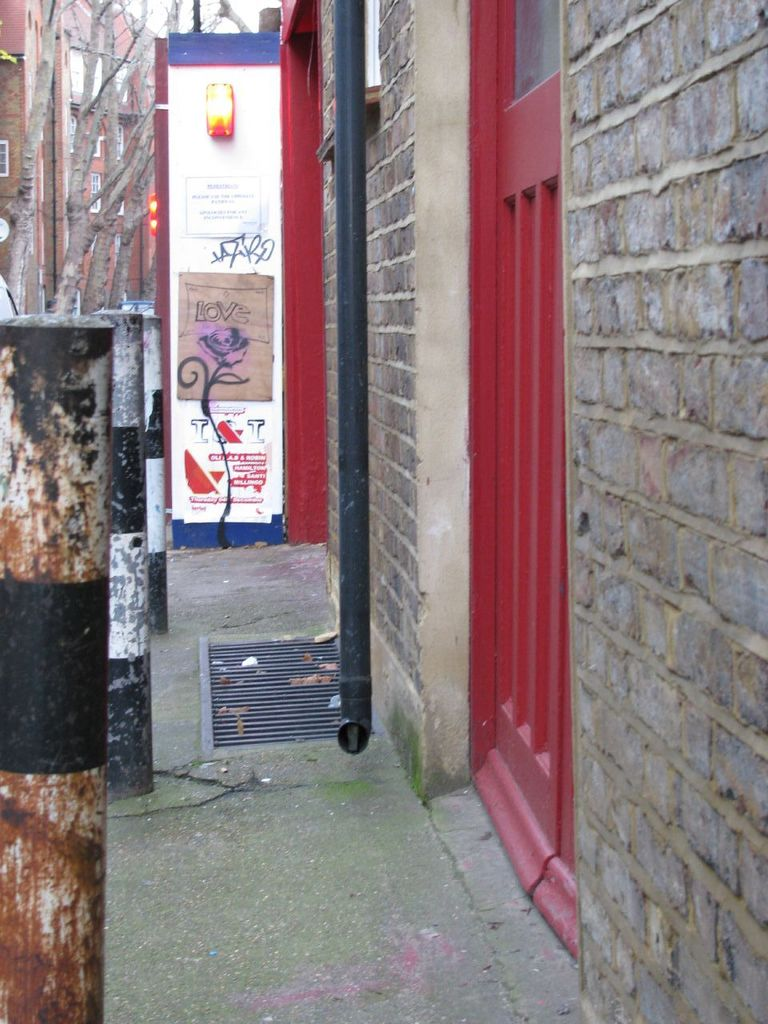Door: (464, 2, 588, 927)
